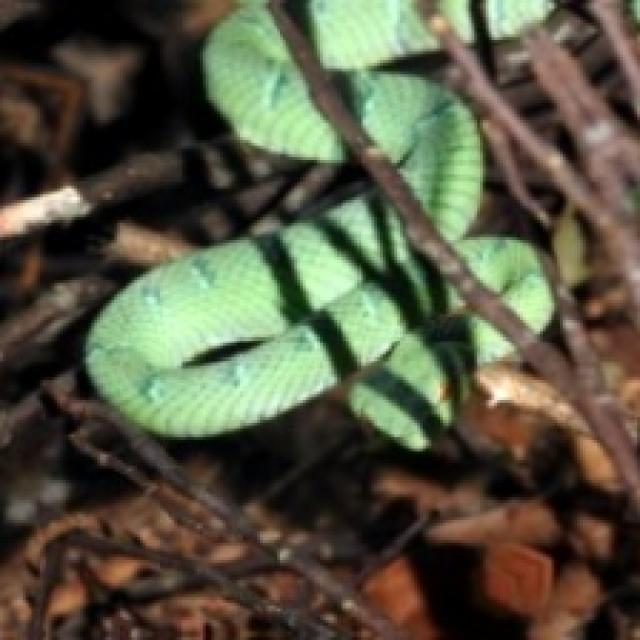north ph temple pitviper: (86, 194, 511, 446), (306, 0, 551, 331), (203, 0, 346, 160)
